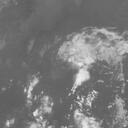cyclone: (56, 42, 99, 89)
